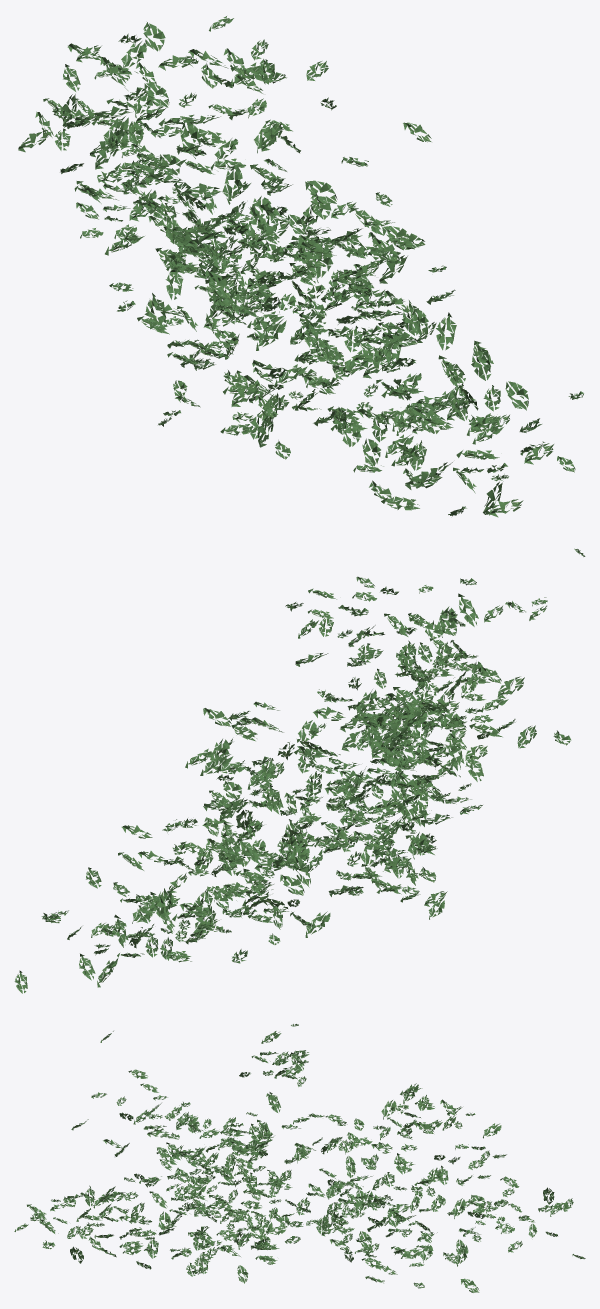
Rendered from holy_canopy3_real.glb.
The picture shows the model from 3 angles, top to bottom: view 1: azimuth 30°, elevation 25°; view 2: azimuth 150°, elevation 25°; view 3: azimuth 270°, elevation 25°; orthographic projection. The views are drawn at different scales.
Visible parts, largest first — view 1: holy_canopy3; view 2: holy_canopy3; view 3: holy_canopy3.
Part boxes in pixels (left/top/right/bottom): holy_canopy3: left=18, top=16, right=583, bottom=517; holy_canopy3: left=14, top=548, right=585, bottom=993; holy_canopy3: left=14, top=1024, right=585, bottom=1292.
Size of the model in its own units: 9.3 by 12.52 by 27.6.
Materials: 1 (1 with a texture image).
